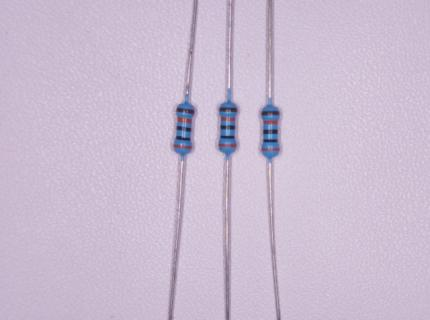Black band: (177, 126, 191, 132), (221, 125, 235, 130), (176, 136, 190, 141), (264, 130, 278, 134), (221, 135, 235, 139), (264, 140, 277, 142)
Brown band: (176, 108, 194, 114), (219, 108, 237, 112), (262, 111, 280, 115)
Orange band: (174, 144, 192, 149), (178, 117, 192, 123), (221, 117, 235, 121), (220, 144, 237, 147), (263, 148, 279, 151), (264, 121, 278, 124)
